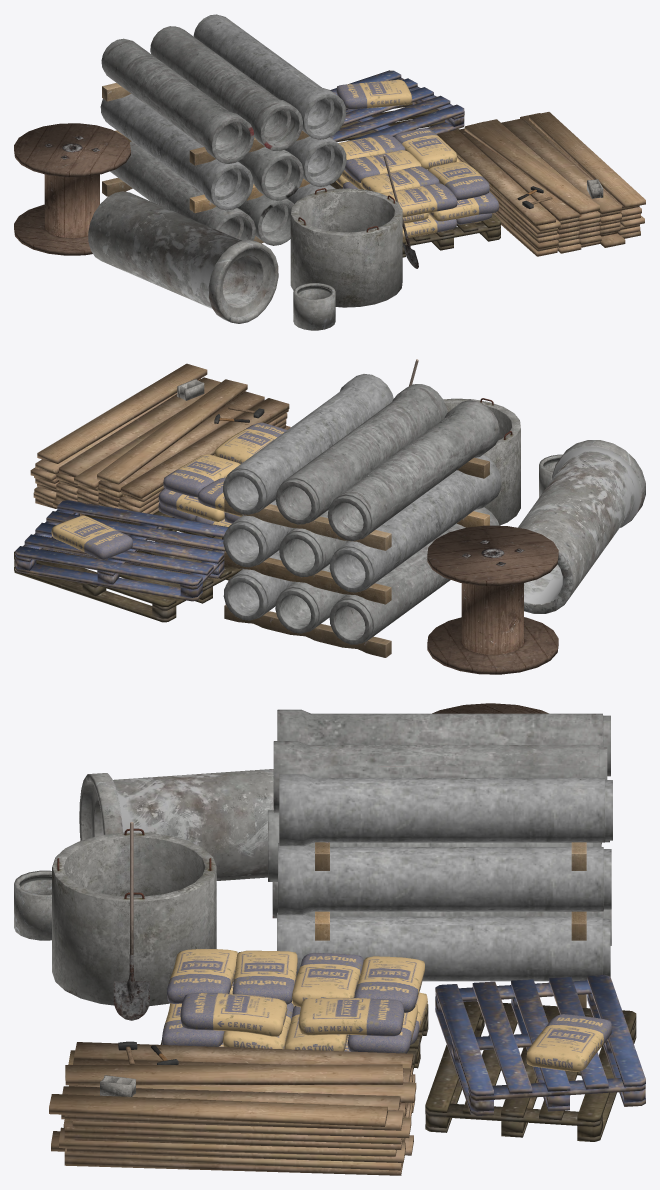
File: sf-sitepack.glb
3 views of the same model, one above another, from view 1: azimuth 30°, elevation 25°; view 2: azimuth 150°, elevation 25°; view 3: azimuth 270°, elevation 25° (orthographic). The views are drawn at different scales.
Parts seen in each view (by area): view 1: pipe_stack_planks, Planks, Concrete_Pipe2, Pallet1.002, Concrete_Pipe1, Cylinder.001, Pallet2, Small_Con_Cyl, Cement.012, Pallet1, shovel; view 2: pipe_stack_planks, Planks, Cylinder.001, Pallet2, Concrete_Pipe2, Pallet1.002, Pallet1, Concrete_Pipe1, Cement.012, Small_Con_Cyl; view 3: pipe_stack_planks, Planks, Pallet1.002, Concrete_Pipe1, Pallet2, Concrete_Pipe2, Pallet1, Cement.012, Small_Con_Cyl, shovel, Cylinder.001, Concrete_Block.
Part boxes in pixels (x1,y1,x2,y2): pipe_stack_planks: (100, 14, 346, 245); Planks: (437, 112, 645, 256); Concrete_Pipe2: (88, 191, 278, 323); Pallet1.002: (330, 128, 500, 257); Concrete_Pipe1: (290, 188, 402, 307); Cylinder.001: (14, 123, 130, 255); Pallet2: (330, 70, 464, 141); Small_Con_Cyl: (293, 283, 335, 330); Cement.012: (336, 79, 411, 109); Pallet1: (337, 102, 458, 141); shovel: (383, 155, 418, 268); pipe_stack_planks: (223, 374, 501, 657); Planks: (30, 363, 290, 515); Cylinder.001: (427, 525, 558, 674); Pallet2: (15, 500, 228, 601); Concrete_Pipe2: (518, 440, 645, 613); Pallet1.002: (153, 422, 286, 539); Pallet1: (14, 514, 242, 622); Concrete_Pipe1: (443, 398, 520, 525); Cement.012: (51, 515, 132, 559); Small_Con_Cyl: (539, 454, 562, 497); pipe_stack_planks: (268, 709, 612, 1007); Planks: (49, 1042, 416, 1175); Pallet1.002: (160, 949, 428, 1071); Concrete_Pipe1: (52, 828, 216, 1006); Pallet2: (435, 974, 645, 1115); Concrete_Pipe2: (79, 769, 273, 880); Pallet1: (425, 1001, 636, 1141); Cement.012: (526, 1014, 611, 1071); Small_Con_Cyl: (14, 870, 51, 940); shovel: (113, 822, 149, 1020); Cylinder.001: (432, 703, 548, 713); Concrete_Block: (100, 1075, 135, 1096).
Size of the model in its own units: 15.26 by 4.38 by 11.59.
29 materials, 29 textured.
